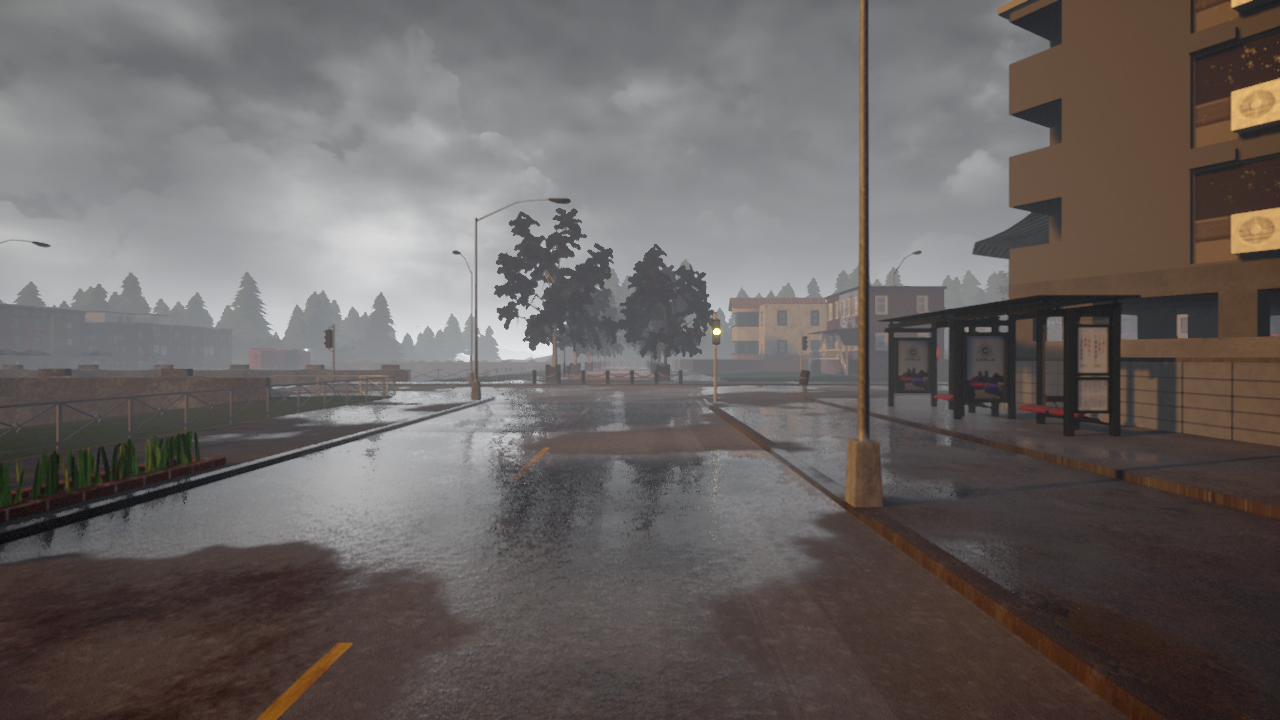yellow: (712, 318, 721, 345)
